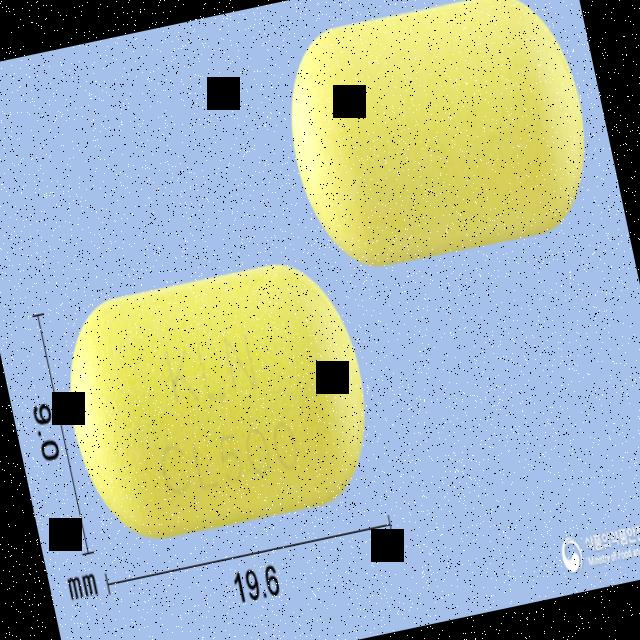New Clato Tab-500mg: (48, 249, 386, 552)
